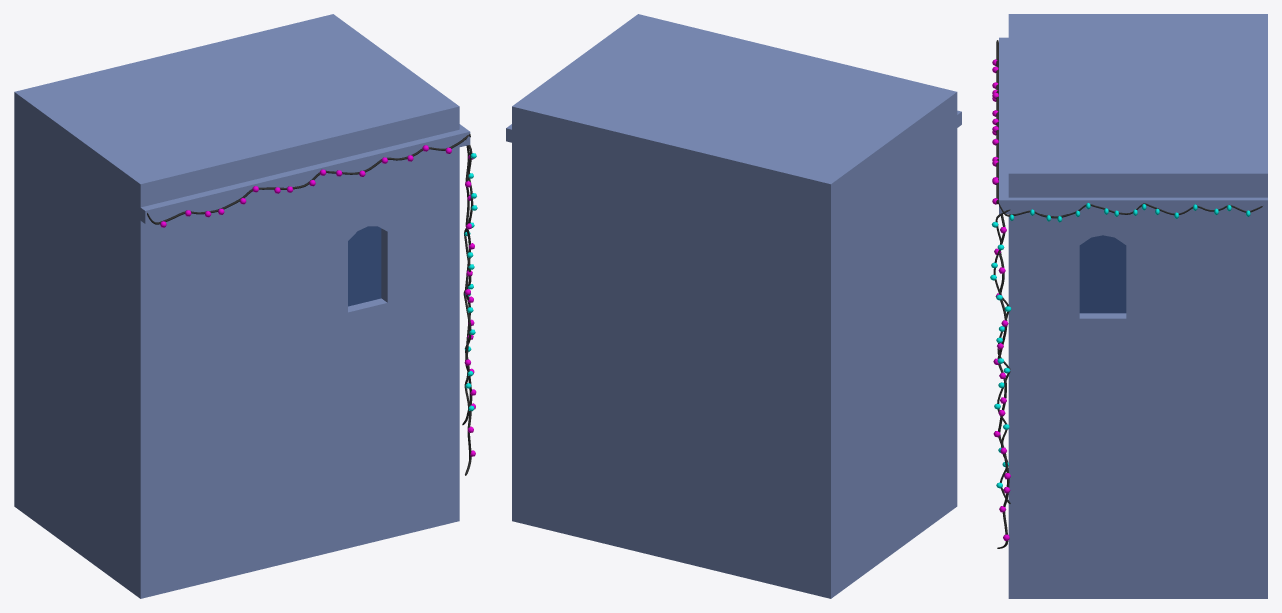
File: BGBuilding.fbx
3 views of the same model, side by side, from view 1: azimuth 30°, elevation 25°; view 2: azimuth 150°, elevation 25°; view 3: azimuth 270°, elevation 25° (orthographic). The views are drawn at different scales.
Visible parts, largest first — view 1: BuildingHigh, Lightsx2, LightsPink; view 2: BuildingHigh; view 3: BuildingHigh, Lightsx2, LightsBlue, LightsPink.
Boxes of the visible parts, x1,y1,x2,y2 form: BuildingHigh: (14,14,470,598); Lightsx2: (462,139,477,475); LightsPink: (147,135,468,227); BuildingHigh: (506,14,961,598); BuildingHigh: (999,14,1267,598); Lightsx2: (990,209,1011,548); LightsBlue: (998,202,1262,222); LightsPink: (992,40,998,204).
Size of the model in its own units: 791 by 936 by 554.
